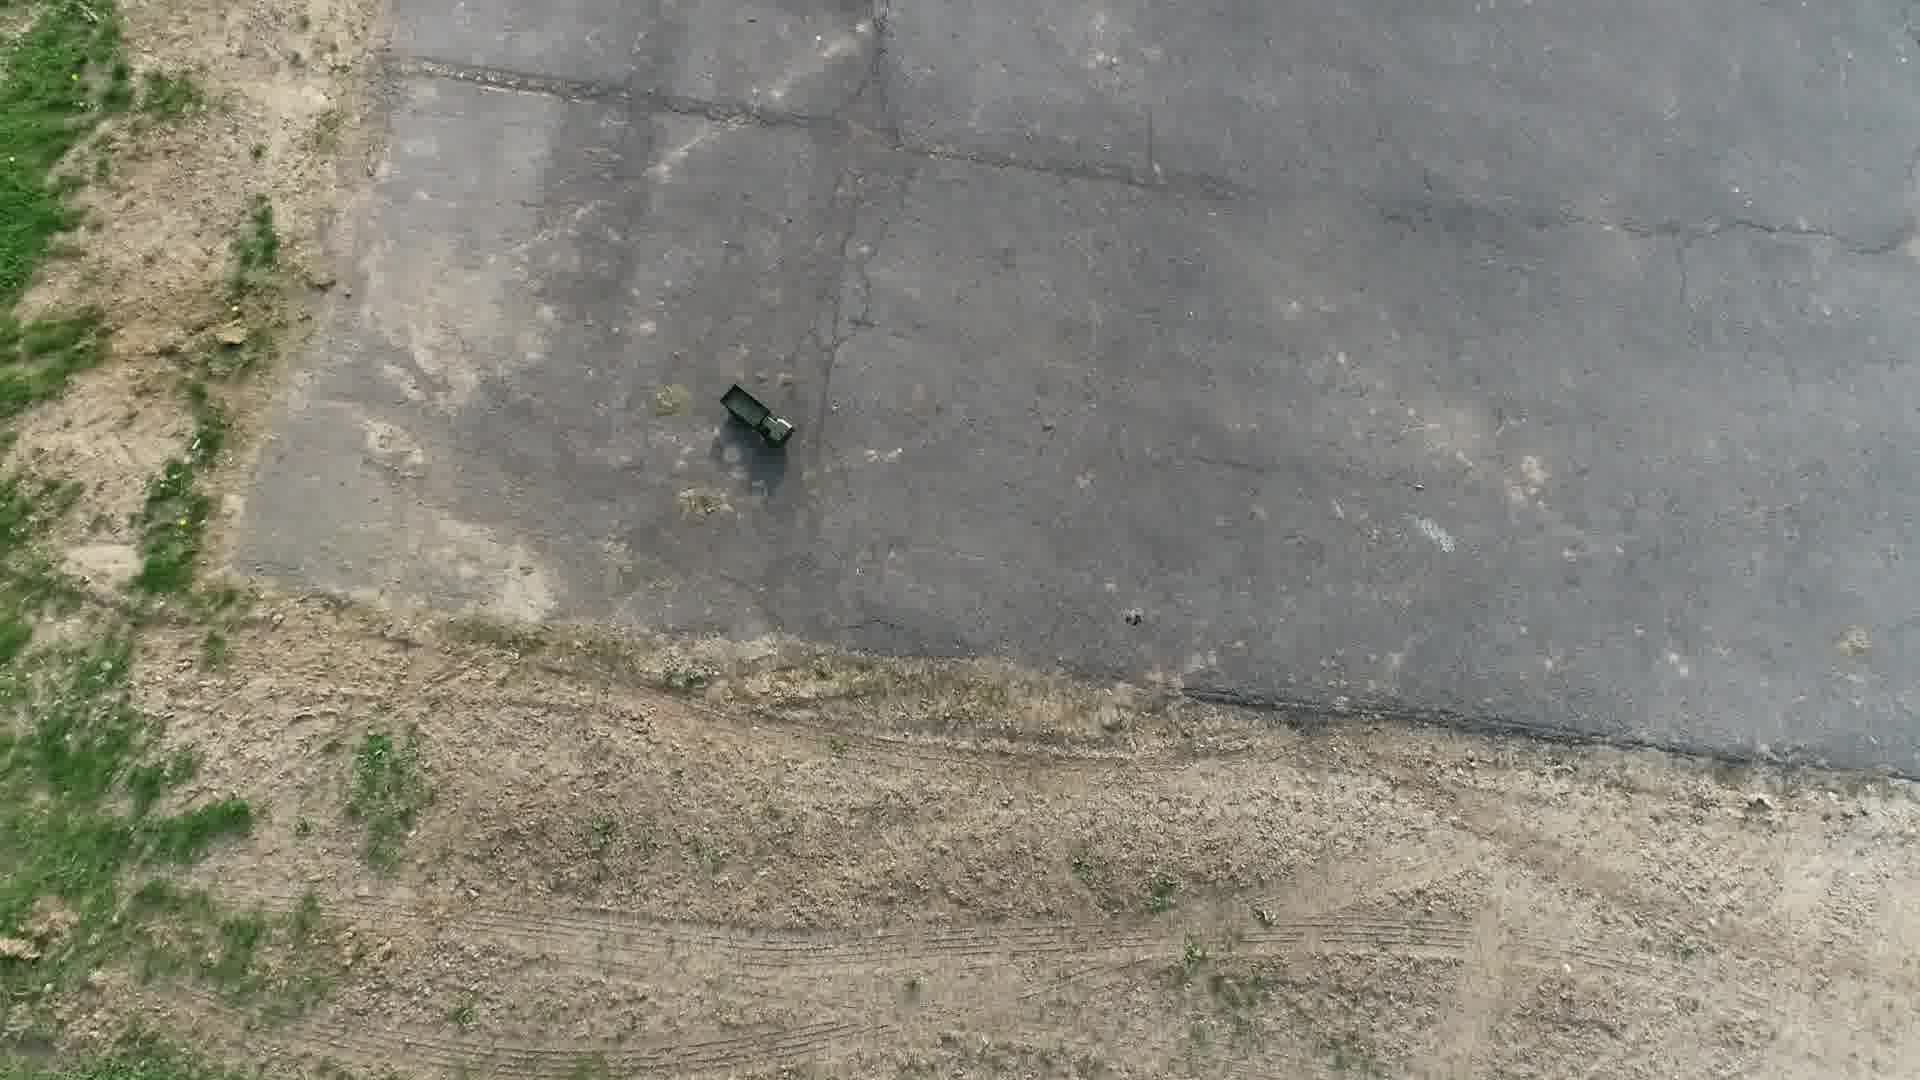transporter9: (719, 382, 799, 451)
